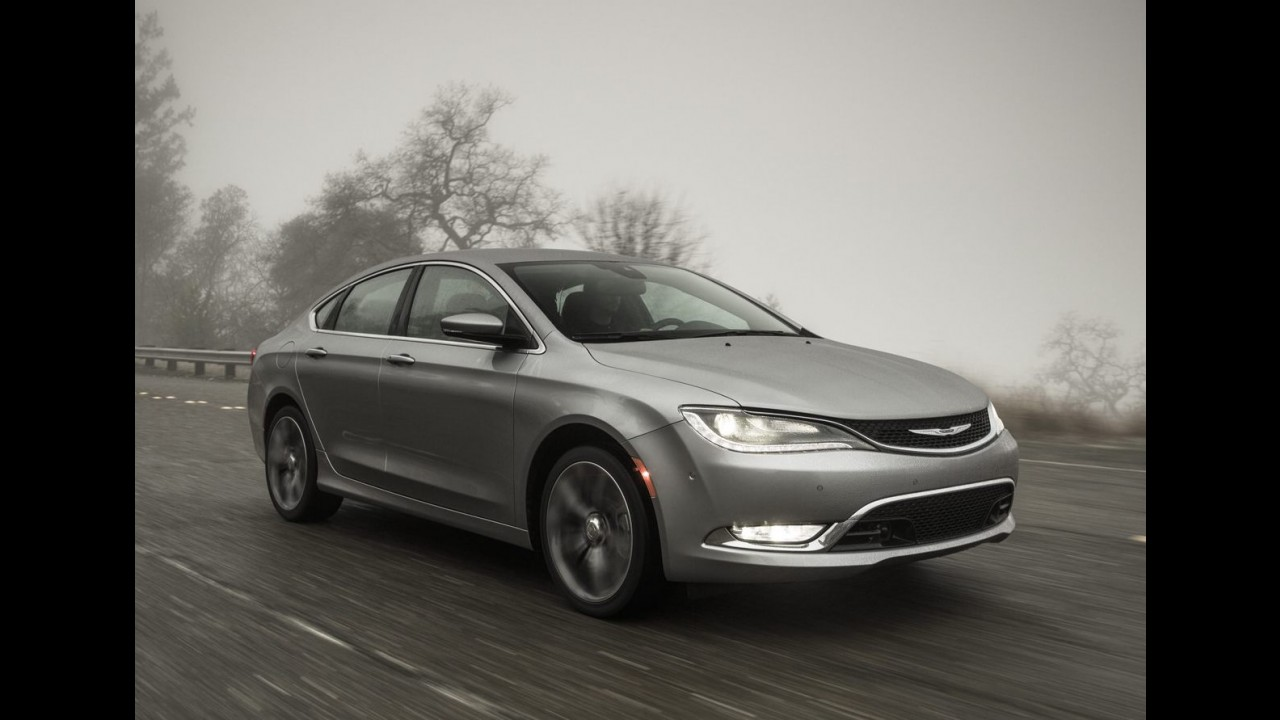Carro: (243, 239, 1025, 617)
